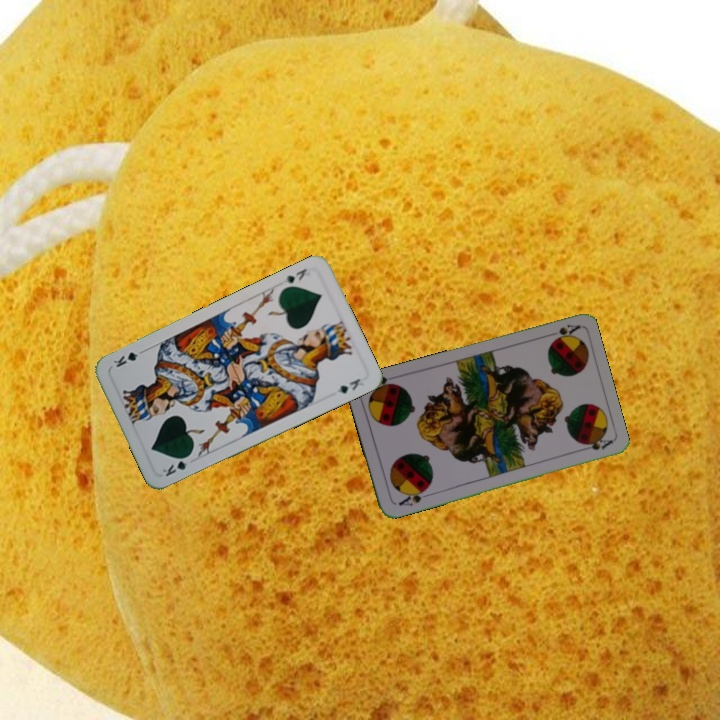GK: (158, 451, 194, 479), (280, 264, 309, 286)
SA: (541, 320, 581, 345), (394, 484, 430, 509)
